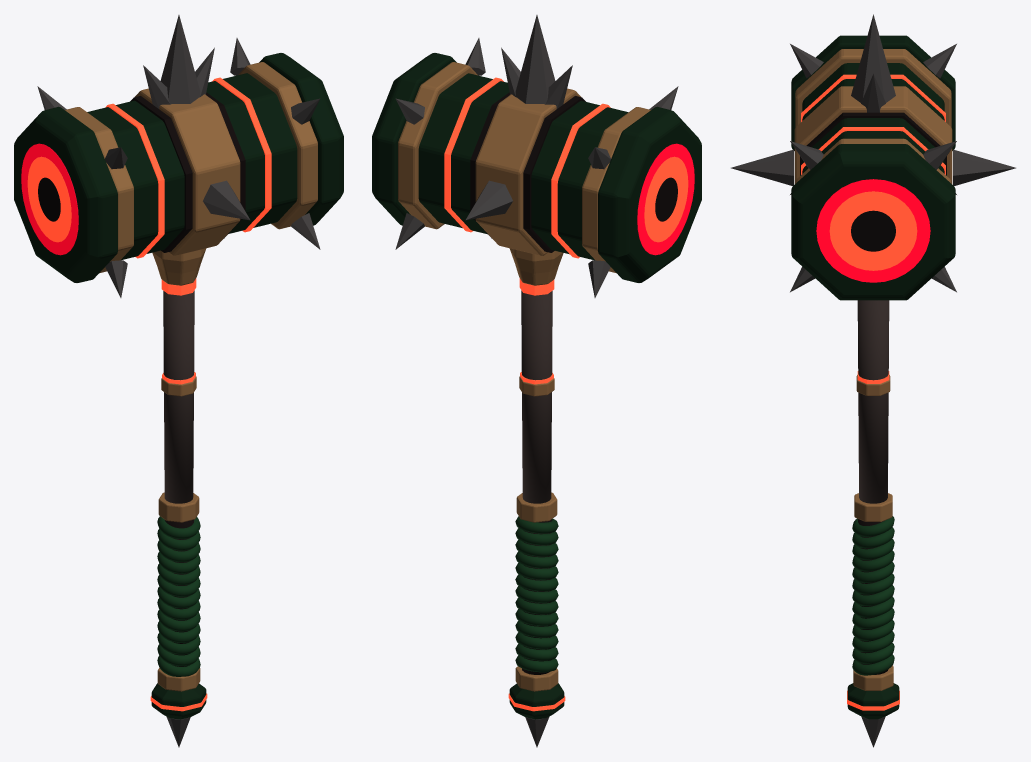
The model's file is hammer_darumaotoshi.fbx.
3 renders of one model, left to right at view 1: azimuth 30°, elevation 25°; view 2: azimuth 150°, elevation 25°; view 3: azimuth 270°, elevation 25°, orthographic.
Parts seen in each view (by area): view 1: darumaotoshi_hammer; view 2: darumaotoshi_hammer; view 3: darumaotoshi_hammer.
Part boxes in pixels (x1,y1,x2,y2): darumaotoshi_hammer: [14, 15, 343, 747]; darumaotoshi_hammer: [372, 15, 701, 747]; darumaotoshi_hammer: [731, 14, 1015, 747].
Size of the model in its own units: 1.13 by 3.05 by 1.08.
